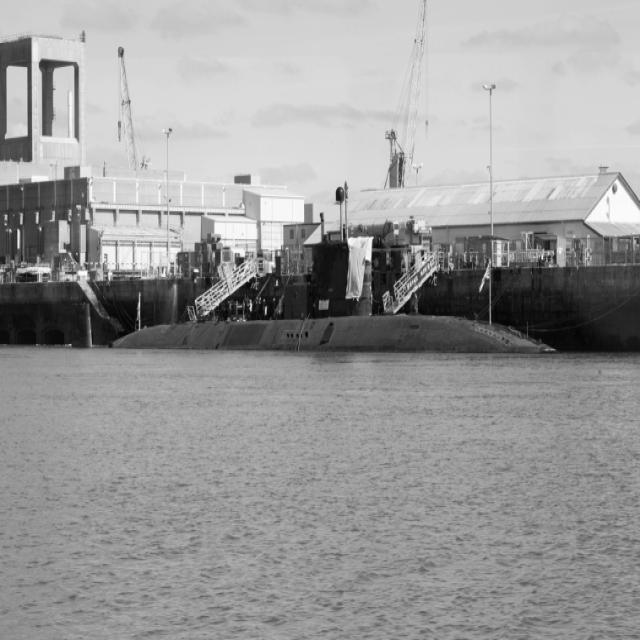submarine: (107, 228, 564, 353)
